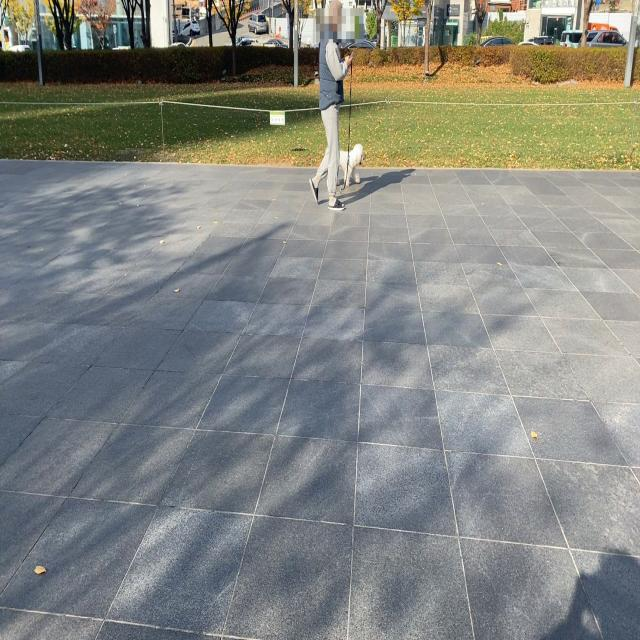Leashed_Dog: (322, 39, 366, 194)
